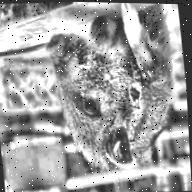boar: (41, 1, 192, 189)
